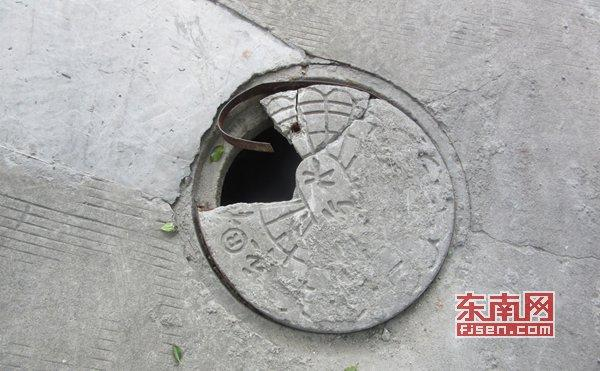broke: (168, 53, 477, 350)
